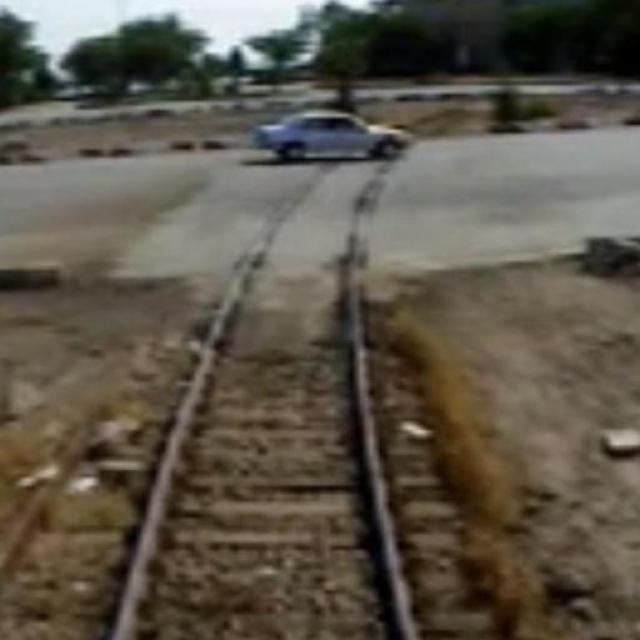vehicle: (252, 101, 420, 170)
